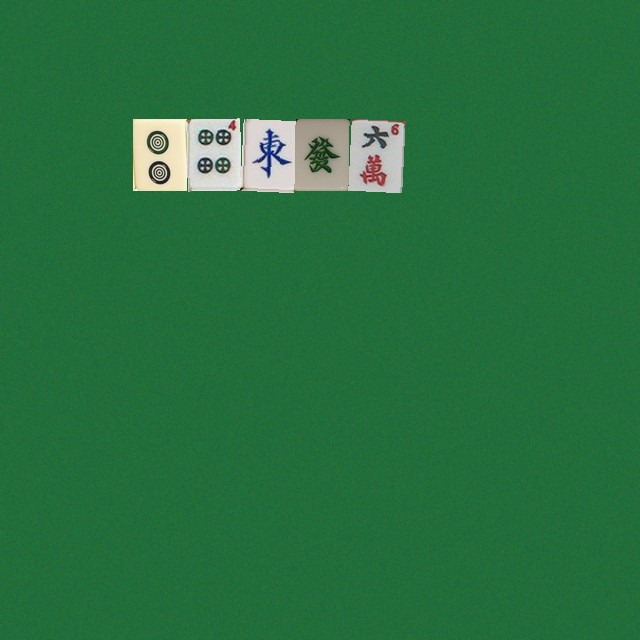tile: (132, 118, 186, 190), (186, 118, 240, 190), (240, 118, 294, 190), (294, 118, 348, 190), (348, 118, 402, 190)
